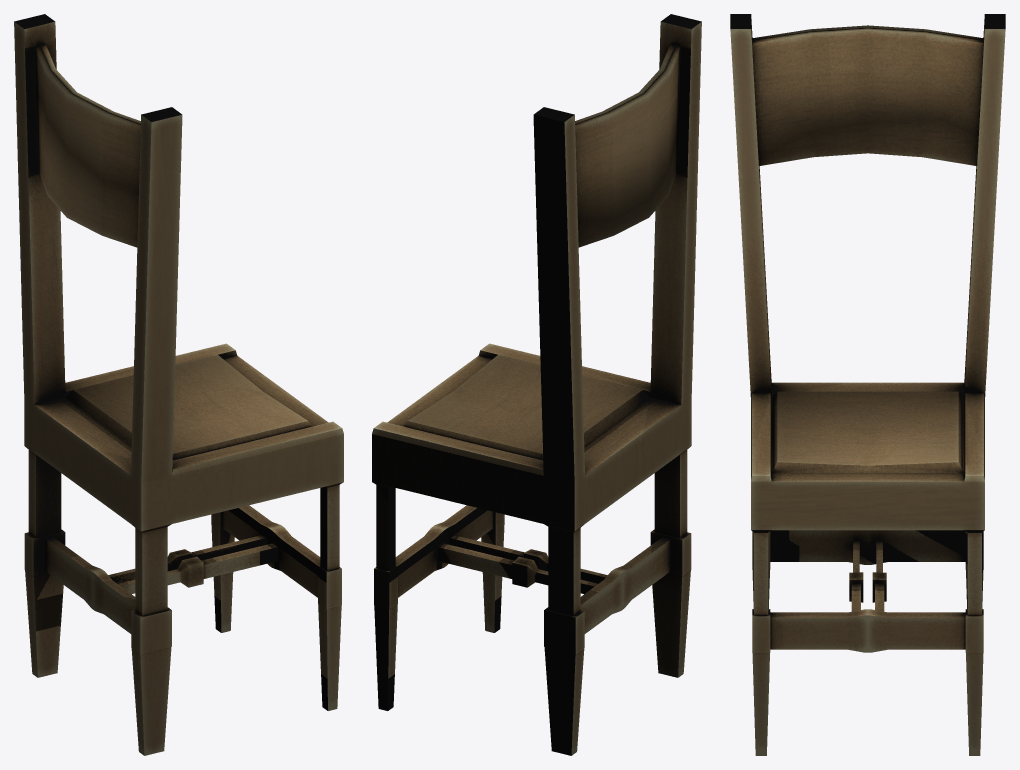
3 views of the same model, side by side, from view 1: azimuth 30°, elevation 25°; view 2: azimuth 150°, elevation 25°; view 3: azimuth 270°, elevation 25° (orthographic).
Parts seen in each view (by area): view 1: Cube.001; view 2: Cube.001; view 3: Cube.001.
Part boxes in pixels (box(x1,y1,x2,y2)): Cube.001: box(14, 14, 343, 755); Cube.001: box(372, 14, 701, 755); Cube.001: box(730, 14, 1005, 755).
Size of the model in its own units: 0.1092 by 0.3077 by 0.119.
Materials: 1 (1 with a texture image).
